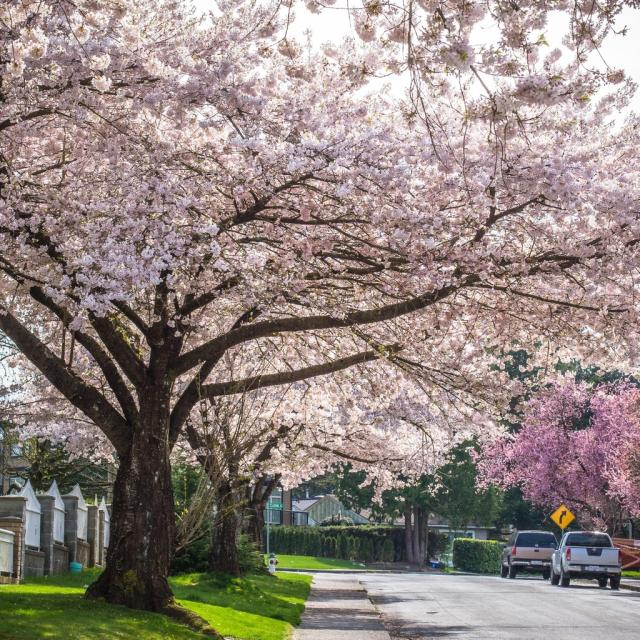car: (510, 528, 581, 592)
